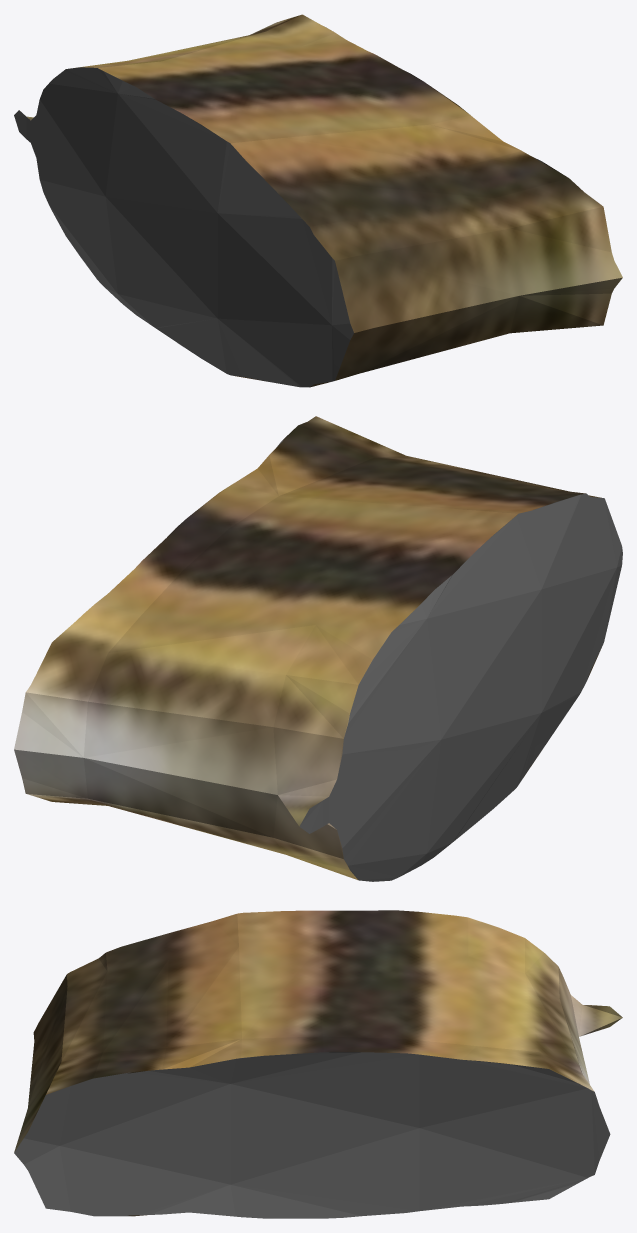
3 renders of one model, top to bottom at view 1: azimuth 30°, elevation 25°; view 2: azimuth 150°, elevation 25°; view 3: azimuth 270°, elevation 25°, orthographic. The views are drawn at different scales.
Visible parts, largest first — view 1: link_12_visual; view 2: link_12_visual; view 3: link_12_visual.
Boxes of the visible parts, left/top/right/bottom form: link_12_visual: left=14, top=14, right=622, bottom=387; link_12_visual: left=14, top=416, right=622, bottom=881; link_12_visual: left=14, top=910, right=622, bottom=1218.
Bounding box in the file's own units: 0.000994 × 0.000728 × 0.0018.
1 material, 1 textured.
